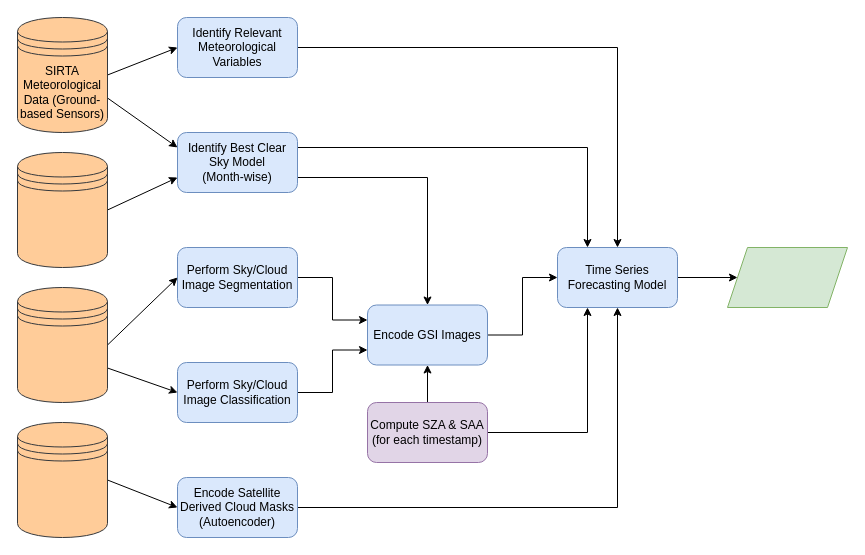
Image size: 865x555. Some labels were removed from this diagram. Here are the shapes that lost their labels. From the top down, the centre of each, then its label:
At pixel 62 210: "NSRDB Satellite-based Data (Clearsky GHI)".
At pixel 787 277: "GHI Forecast".
At pixel 62 344: "SIRTA Ground-based Sky Imager (GSI) Dataset".
At pixel 62 480: "METEOSAT Satellite-derived Cloud Masks (RSS SEVIRI)".
